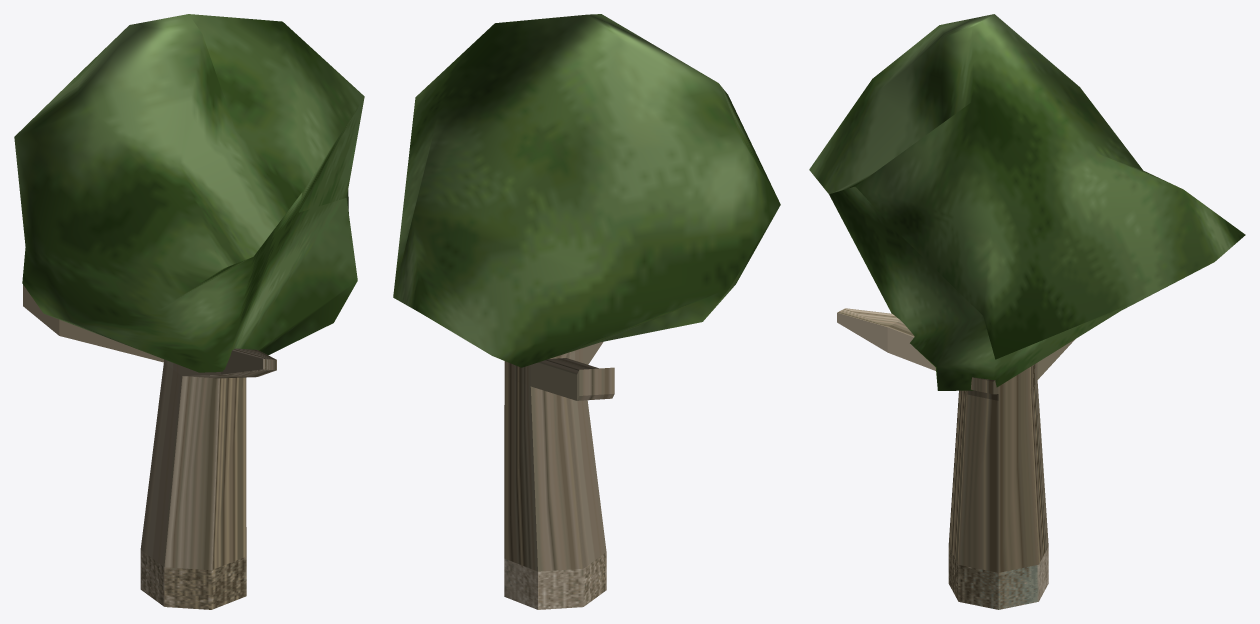
Rendered from tree0singleton3.fbx.
3 views of the same model, side by side, from view 1: azimuth 30°, elevation 25°; view 2: azimuth 150°, elevation 25°; view 3: azimuth 270°, elevation 25° (orthographic). The views are drawn at different scales.
Parts seen in each view (by area): view 1: pCylinder1; view 2: pCylinder1; view 3: pCylinder1.
Part boxes in pixels (box(x1,y1,x2,y2)): pCylinder1: box(14, 14, 364, 609); pCylinder1: box(393, 14, 780, 609); pCylinder1: box(809, 14, 1245, 609).
Size of the model in its own units: 16.74 by 27.12 by 19.48.
